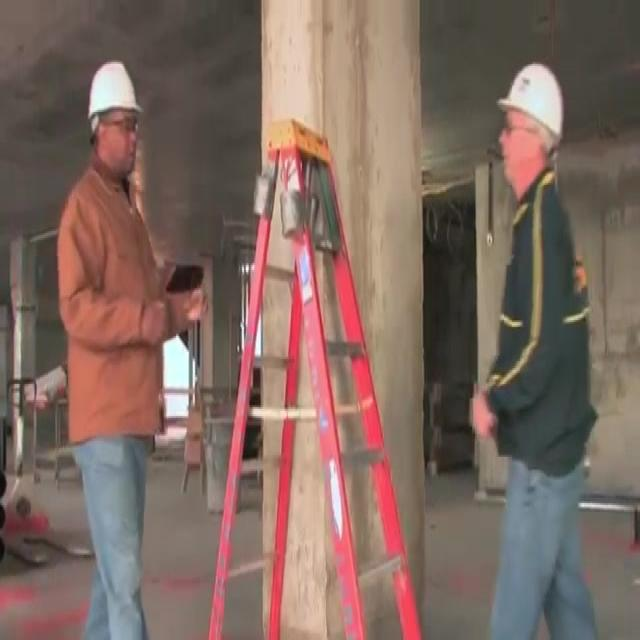safety_helmet: (492, 50, 576, 156), (78, 50, 149, 137)
